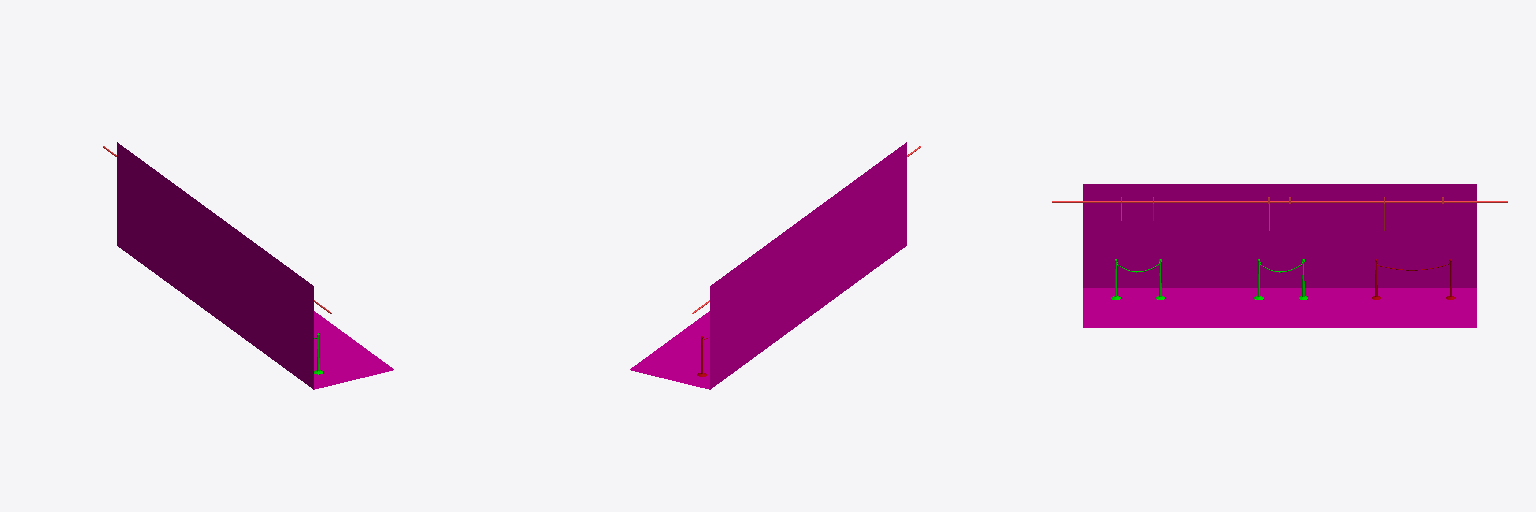
The model's file is Environment_whole.obj.
3 views of the same model, side by side, from view 1: azimuth 30°, elevation 25°; view 2: azimuth 150°, elevation 25°; view 3: azimuth 270°, elevation 25° (orthographic).
Visible parts, largest first — view 1: pCube12; view 2: pCube12; view 3: pCube12, transform35.
Boxes of the visible parts, <box> form: pCube12: <box>117,142,393,389</box>; pCube12: <box>630,142,906,389</box>; pCube12: <box>1083,184,1476,327</box>; transform35: <box>1052,197,1507,230</box>.
Bounding box in the file's own units: 0.7553 × 0.9215 × 3.67.